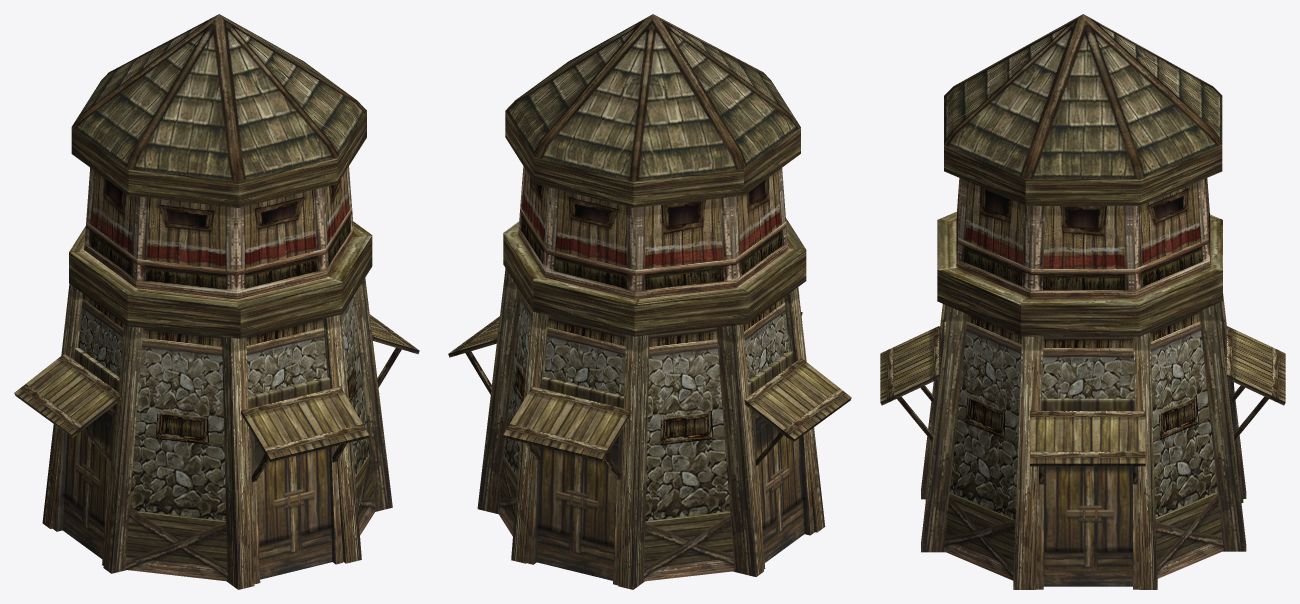
Rendered from ob-7-12-building02.fbx.
3 renders of one model, left to right at view 1: azimuth 30°, elevation 25°; view 2: azimuth 150°, elevation 25°; view 3: azimuth 270°, elevation 25°, orthographic.
Visible parts, largest first — view 1: Object01; view 2: Object01; view 3: Object01.
Part boxes in pixels (left/top/right/bottom): Object01: left=14, top=14, right=419, bottom=589; Object01: left=448, top=14, right=851, bottom=589; Object01: left=880, top=14, right=1285, bottom=589.
Bounding box in the file's own units: 9.22 × 12.75 × 9.22.
